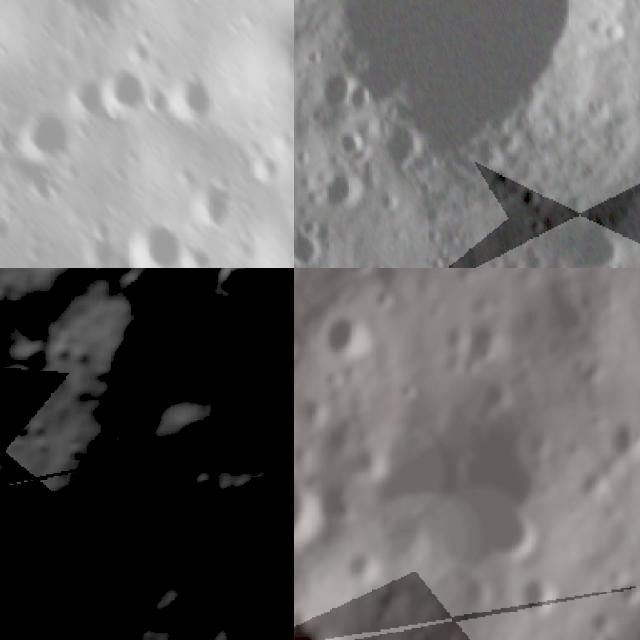crater: (294, 0, 640, 265), (0, 397, 218, 640), (44, 277, 231, 464), (382, 440, 552, 574), (172, 412, 294, 578), (548, 205, 637, 268), (88, 50, 148, 116), (123, 210, 189, 268), (12, 110, 78, 167), (165, 68, 225, 129), (294, 472, 331, 555), (508, 571, 564, 625), (489, 509, 543, 564), (326, 312, 382, 363), (56, 70, 104, 120), (546, 292, 594, 342), (315, 483, 362, 525), (324, 408, 362, 459), (482, 368, 522, 416), (81, 219, 118, 268), (294, 611, 356, 640), (351, 437, 393, 479), (574, 466, 617, 507), (522, 423, 562, 465), (603, 417, 640, 462), (247, 146, 284, 188), (608, 564, 640, 611), (344, 544, 388, 576), (183, 234, 224, 268), (457, 570, 494, 606), (297, 392, 329, 425), (584, 604, 620, 633), (369, 284, 395, 310), (396, 377, 422, 402), (329, 268, 381, 280), (298, 306, 320, 334), (294, 321, 306, 372), (582, 624, 608, 640)
